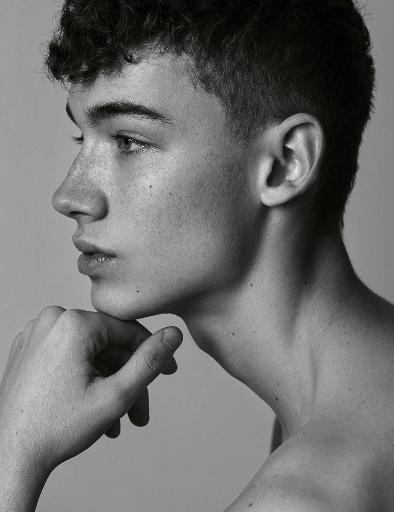left_eye: (108, 131, 157, 159)
left_lip_corner: (100, 243, 130, 268)
